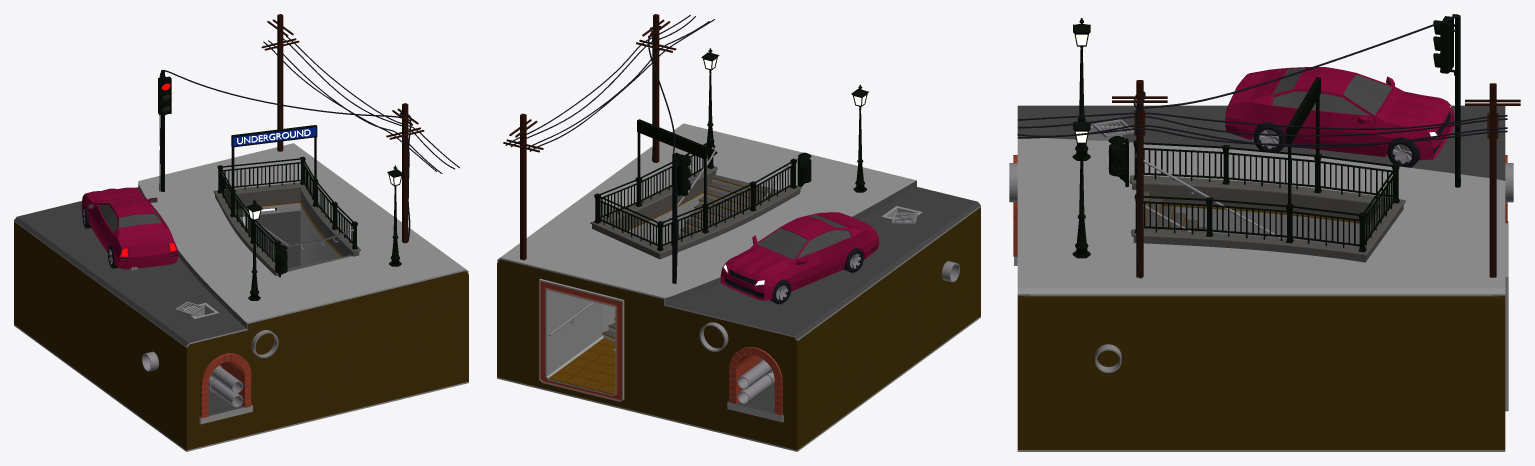
The model's file is subway.glb.
3 views of the same model, side by side, from view 1: azimuth 30°, elevation 25°; view 2: azimuth 150°, elevation 25°; view 3: azimuth 270°, elevation 25° (orthographic). The views are drawn at different scales.
Visible parts, largest first — view 1: Object_4, Object_45; view 2: Object_4; view 3: Object_4.
Boxes of the visible parts, x1,y1,x2,y2 form: Object_4: (14, 14, 468, 451); Object_45: (237, 129, 401, 219); Object_4: (497, 14, 980, 451); Object_4: (1009, 14, 1520, 451).
Bounding box in the file's own units: 1.99 × 1.61 × 2.1.
3 materials, 3 textured.
